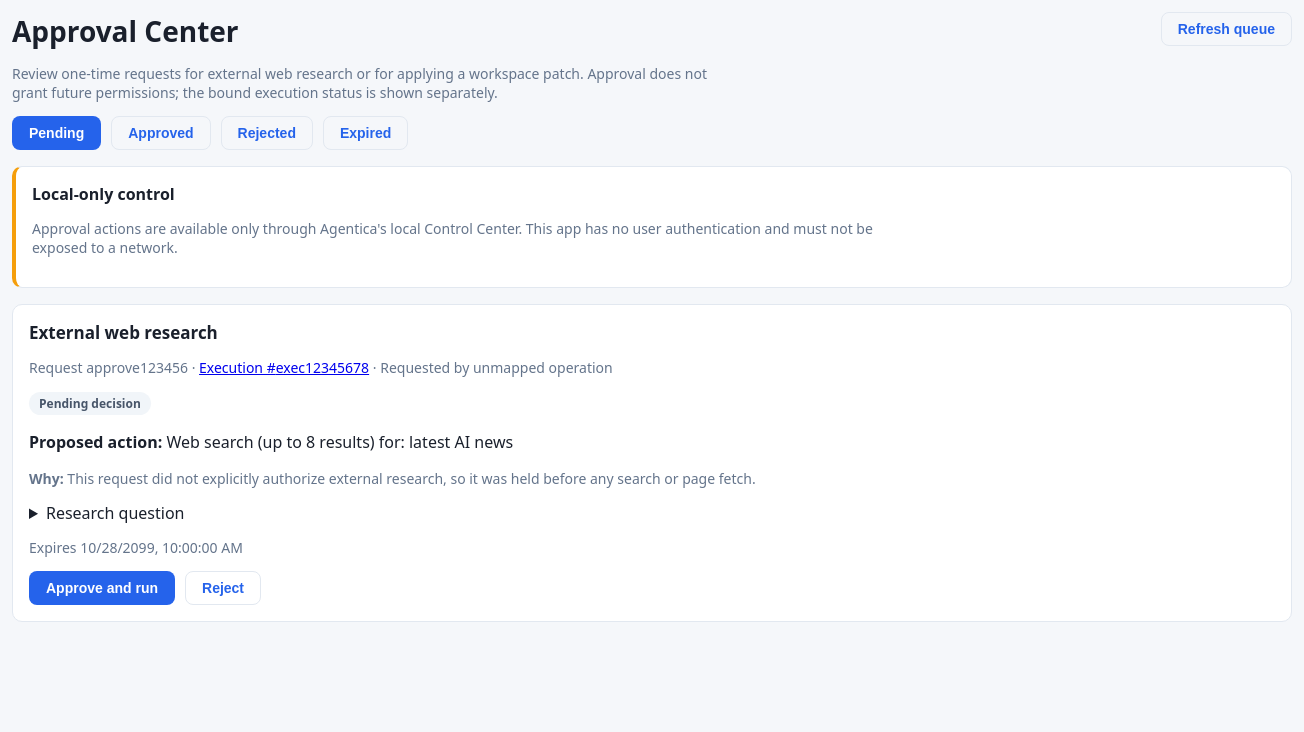
Approval Center › shows proposed action and reason, then approves and shows real execution result
This screenshot has width=1304, height=732.
Expected: the text "Web search (up to 8 results)" is shown, [166,431,513,453]
Expected: the text "did not explicitly authorize external research" is shown, [67,469,756,488]
Click the button "Approve and run". click: [102, 588]
box: [29,571,175,605]
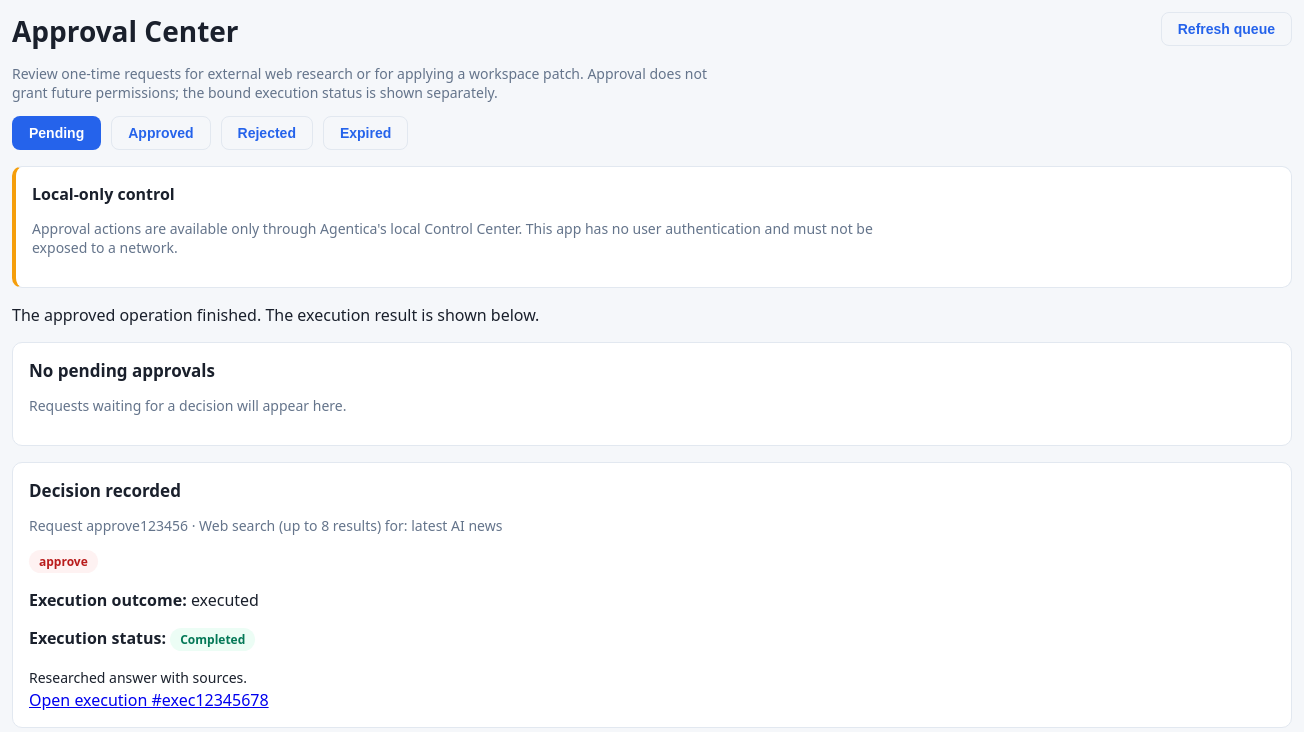
Result: the text "Researched answer with sources." is shown at [29,668,247,687]
Result: the text "Execution status:" is shown at [29,627,166,649]
